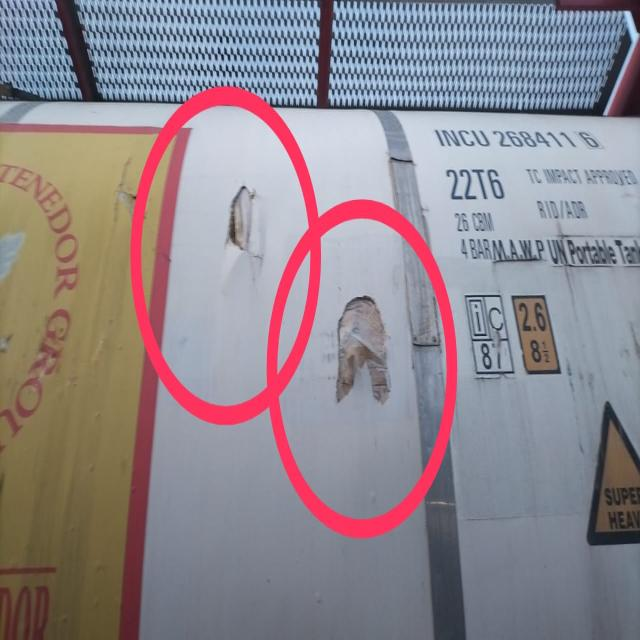hole: (336, 293, 390, 406), (227, 183, 262, 264), (124, 188, 137, 206)
